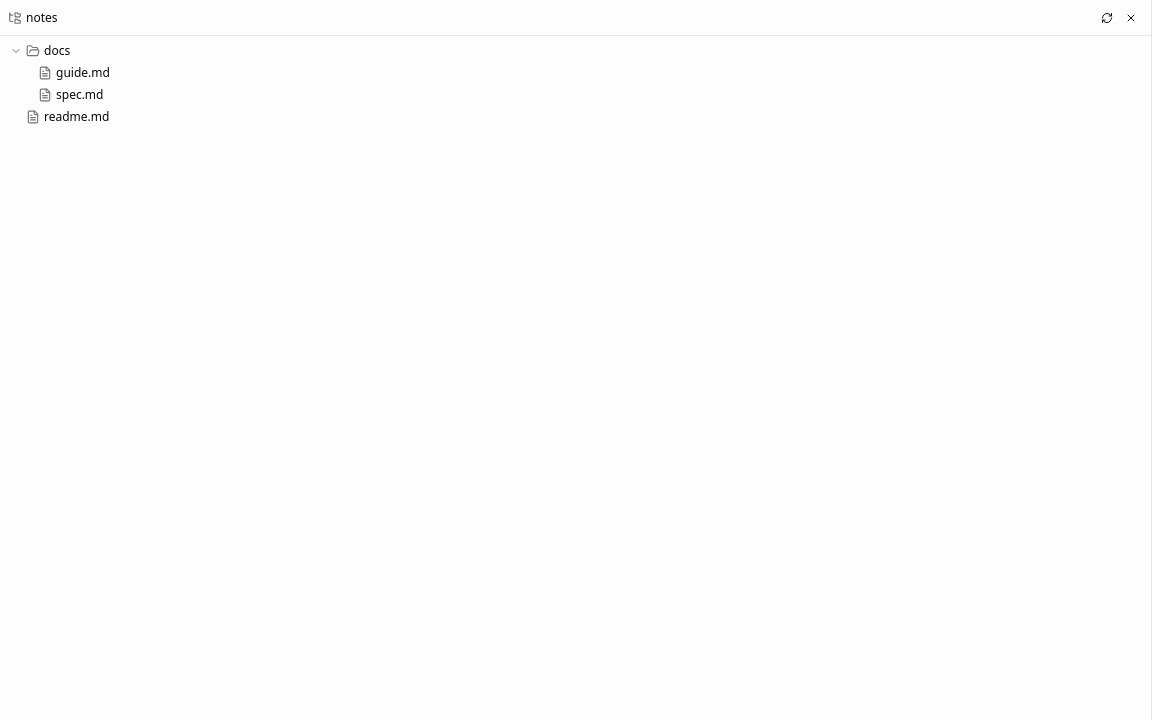
Test: FileTree › 对话框标题带上文件名，输入框预选主文件名
Right-click the text "readme.md" at (77, 117), box [44, 109, 109, 125]
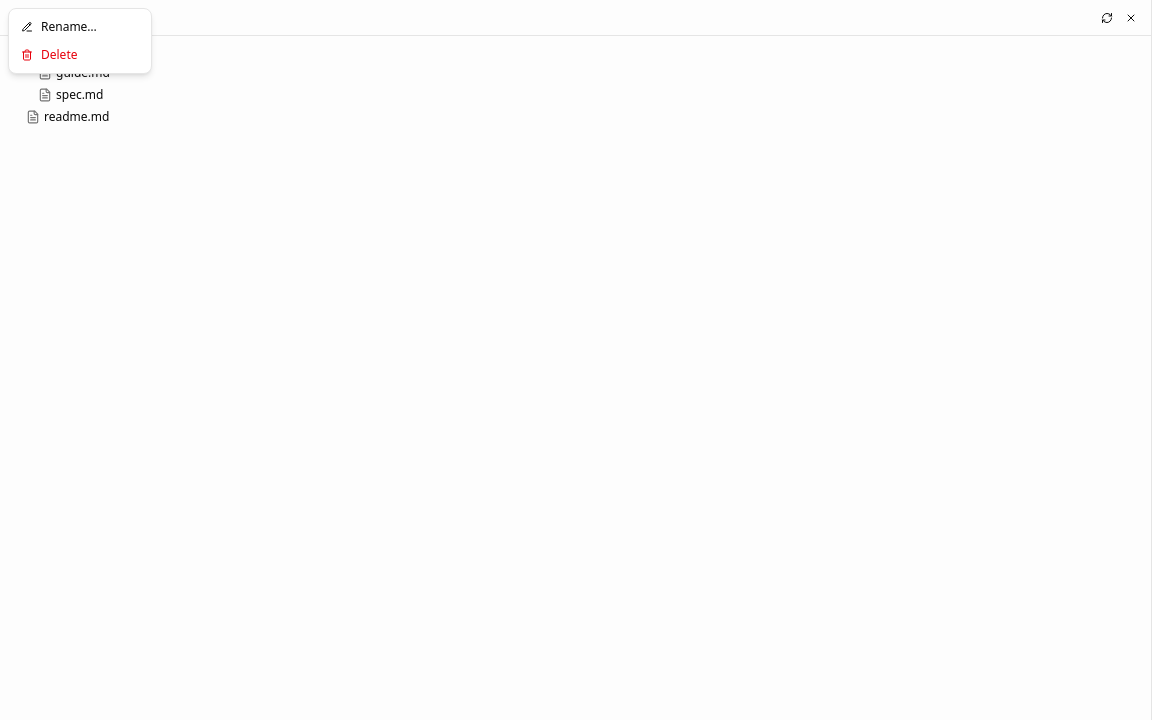
Click the menu item "Rename…" at (80, 27), box [13, 13, 147, 41]
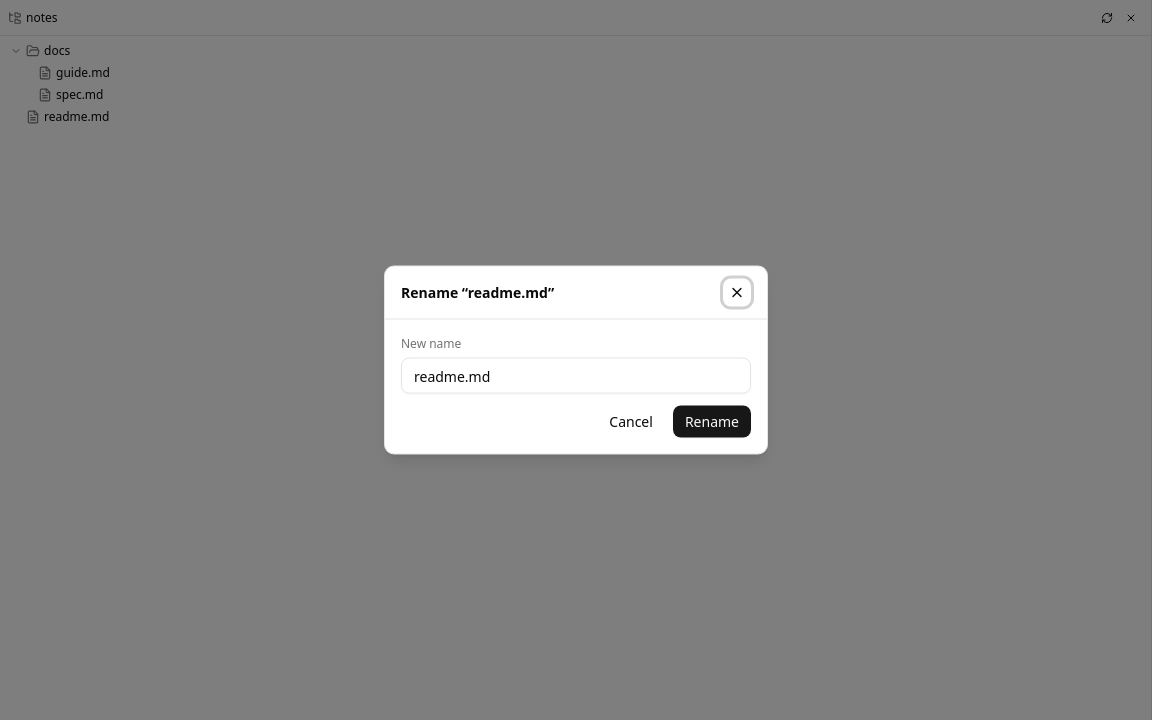
Expected: the heading "Rename “readme.md”" is shown, [401, 286, 554, 300]
